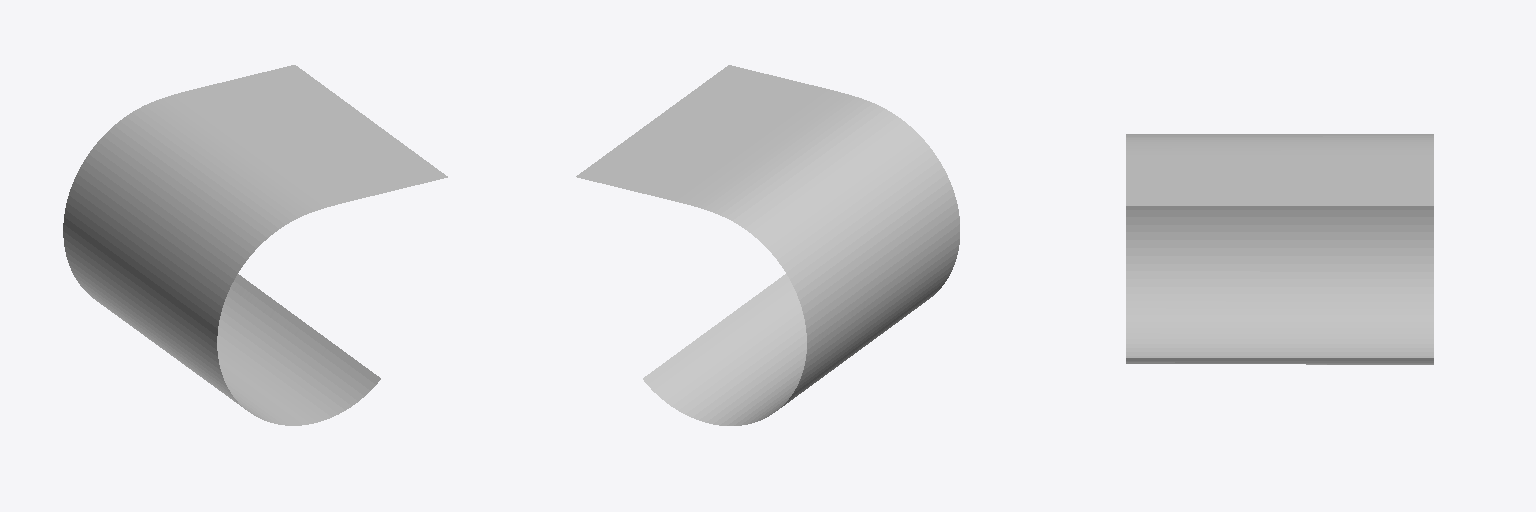
Rendered from CurvePaper_000031.obj.
3 views of the same model, side by side, from view 1: azimuth 30°, elevation 25°; view 2: azimuth 150°, elevation 25°; view 3: azimuth 270°, elevation 25° (orthographic).
Parts seen in each view (by area): view 1: Plane; view 2: Plane; view 3: Plane.
Boxes of the visible parts, x1=… form: Plane: x1=63, y1=65, x2=447, y2=425; Plane: x1=576, y1=65, x2=959, y2=425; Plane: x1=1126, y1=134, x2=1433, y2=364.
Bounding box in the file's own units: 1.97 × 1.74 × 2.26.